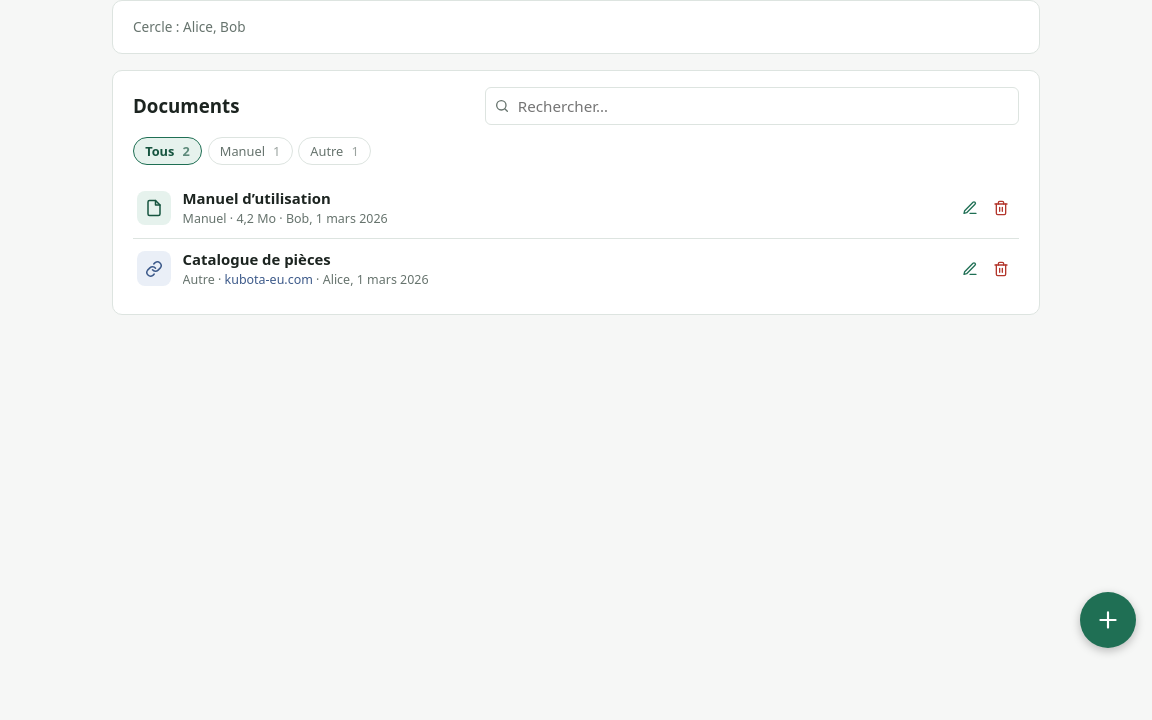
ajout › ouvre une modale qui laisse choisir la nature, sans en imposer une
Expected: the text "Manuel d’utilisation" is shown, [183,188,331,208]
Click the button named "Ajouter un document": (1108, 620) [1080,592,1136,648]
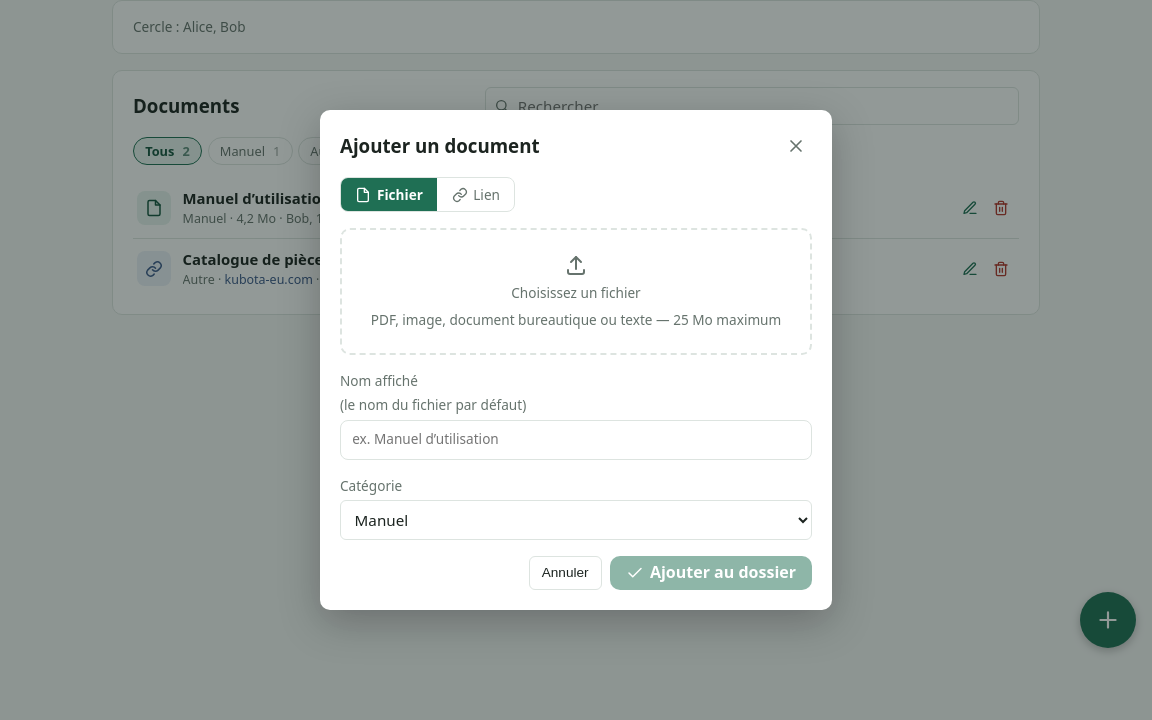
Expected: the button "Fichier" is shown, [341,178,437,212]
Expected: the button "Lien" is shown, [437,178,514,212]
